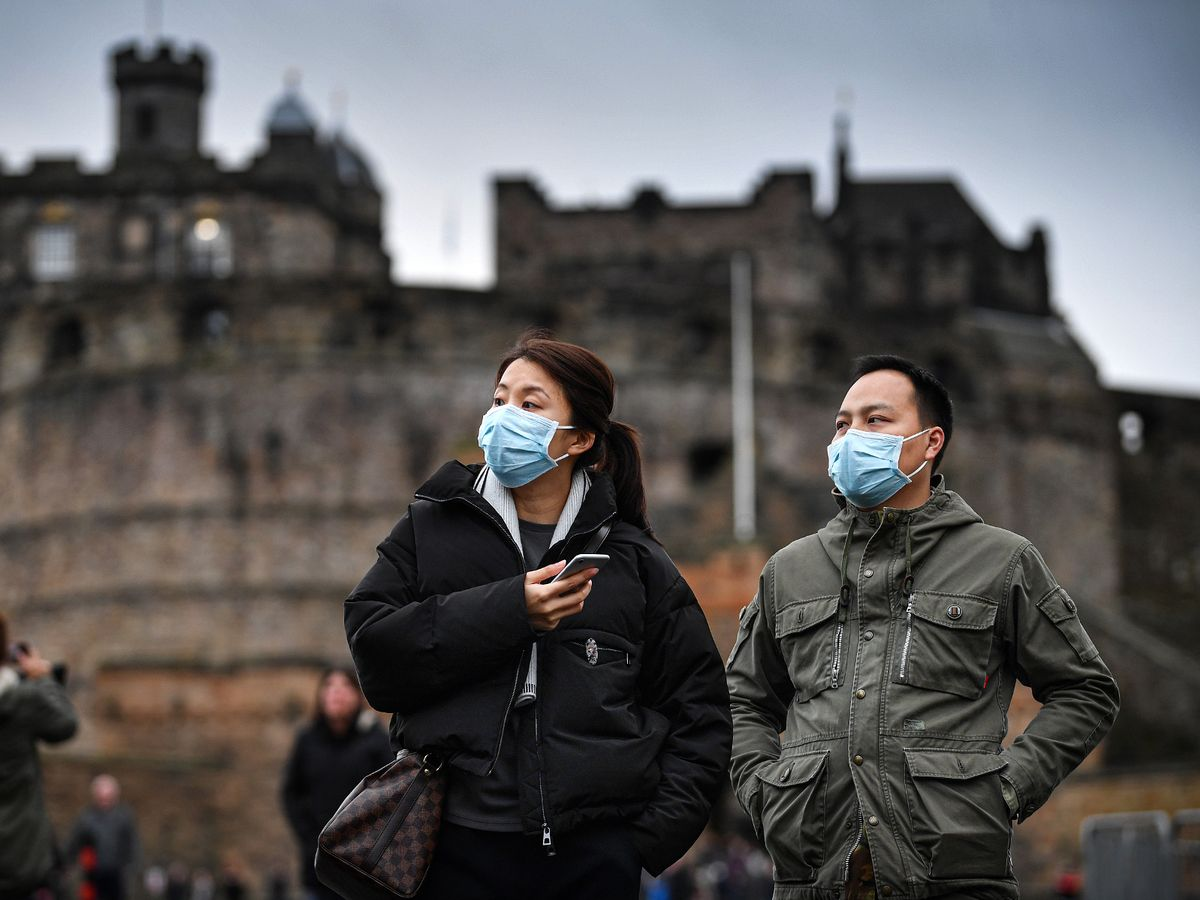surgical: (808, 424, 912, 514), (465, 401, 562, 490)
